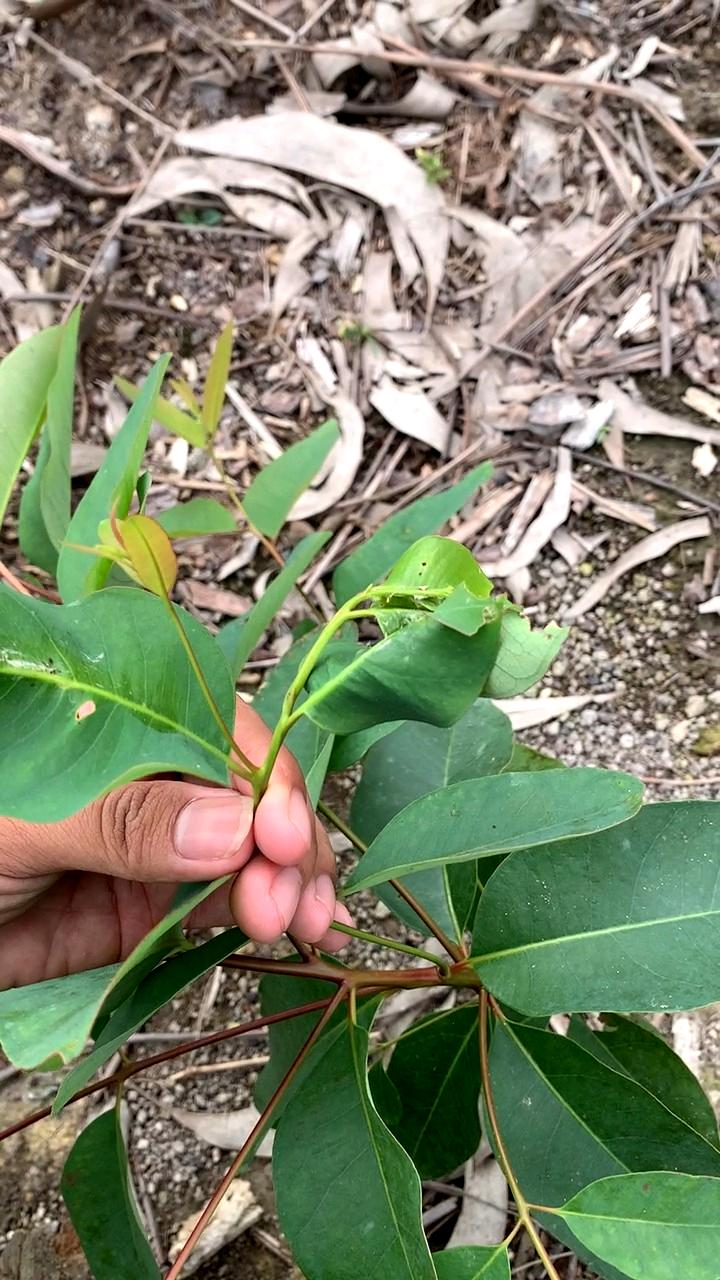Leaf Roller - Leaf: (268, 540, 561, 751)
